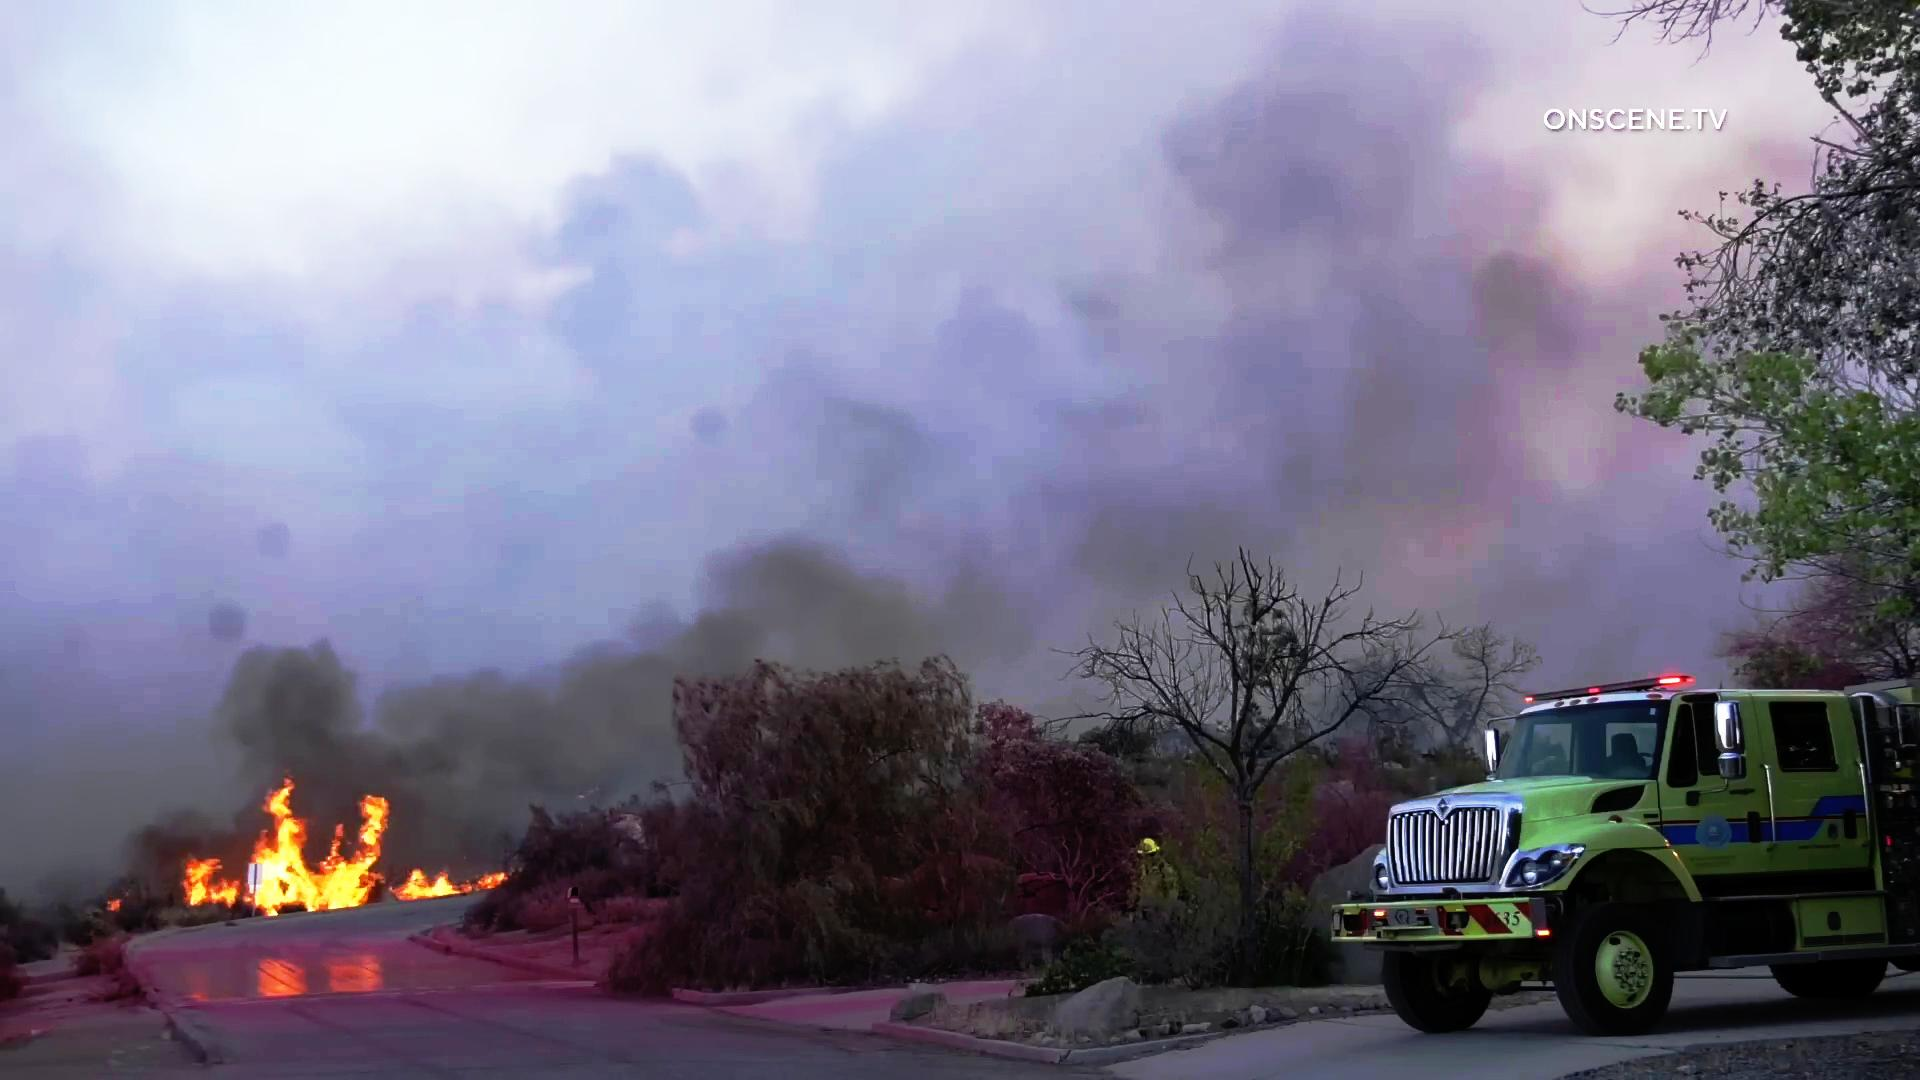fire: (251, 811, 413, 926)
smoke: (215, 650, 459, 786)
